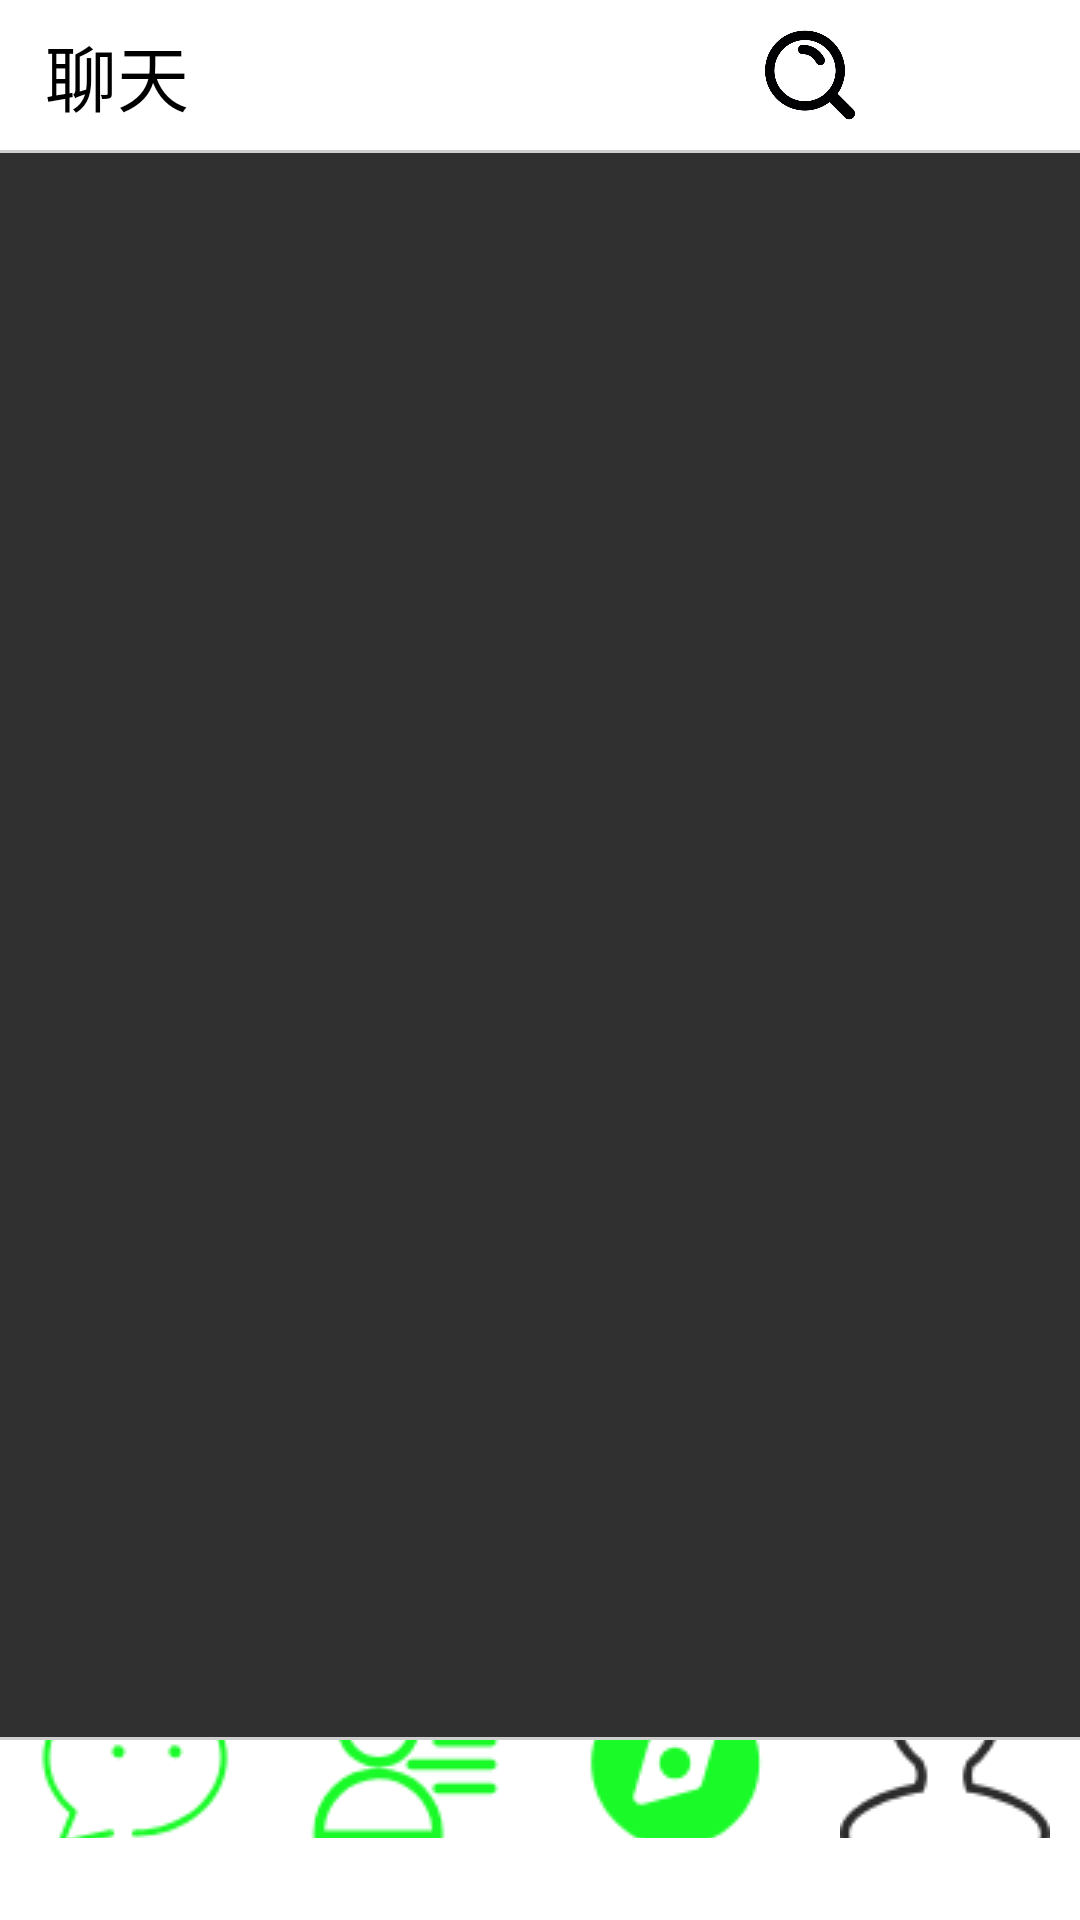

Screen size 1080 x 1920. Icon name, then its center in pixels as (x=x, y=y):
chat search: (x=810, y=75)
